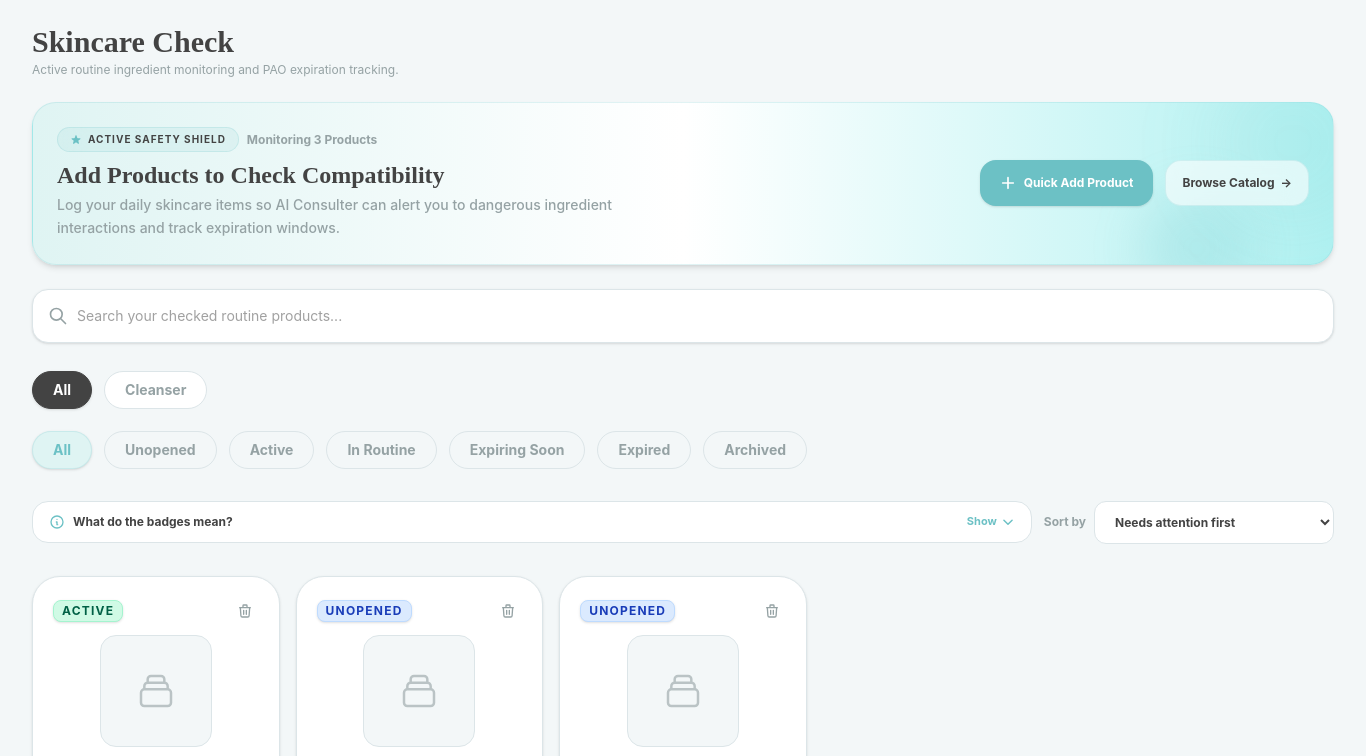
Test case: src/views/ShelfView.vue › Active and In Routine › says nothing matches, not that the routine failed, when the routine loaded empty
The width and height of the screenshot is (1366, 756).
Click the button "In Routine" at (382, 450), box [326,430,437,468]
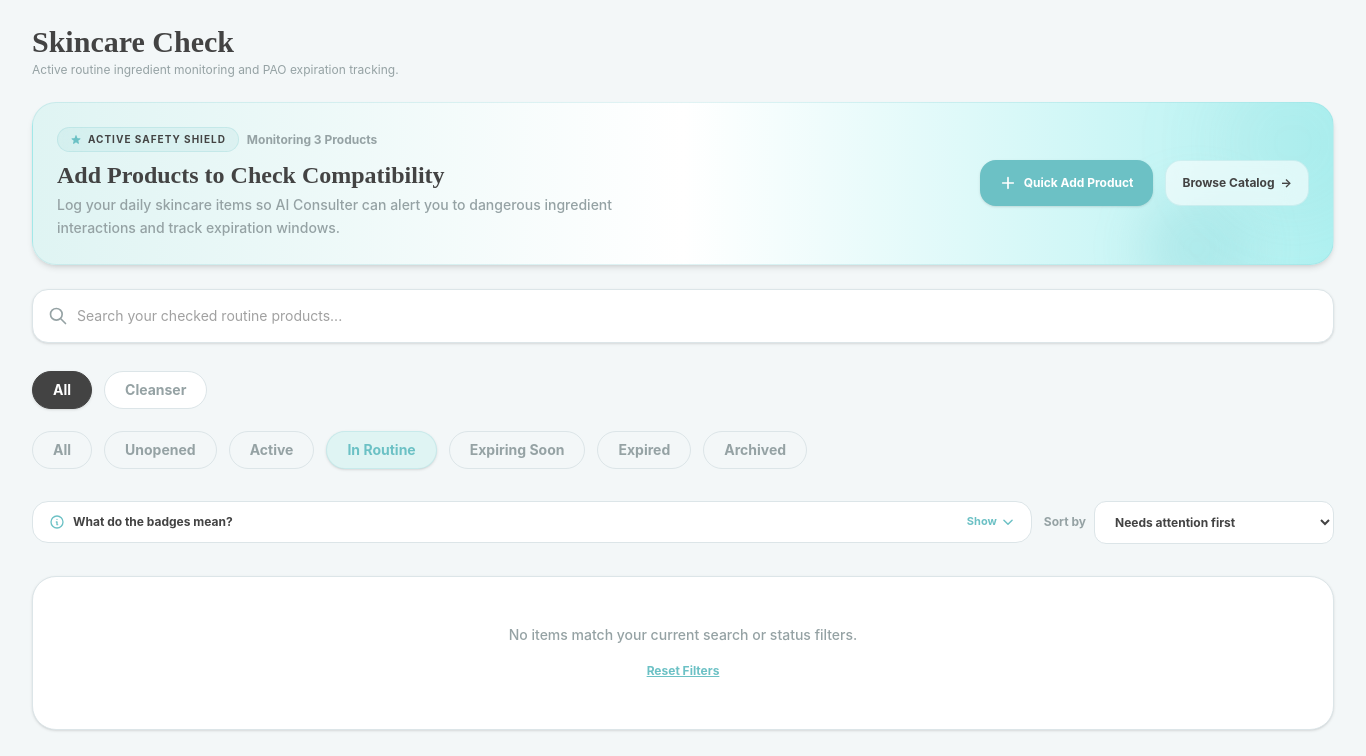
Check: the text "No items match your current search or status filters." is shown, box [509,626,857,642]
